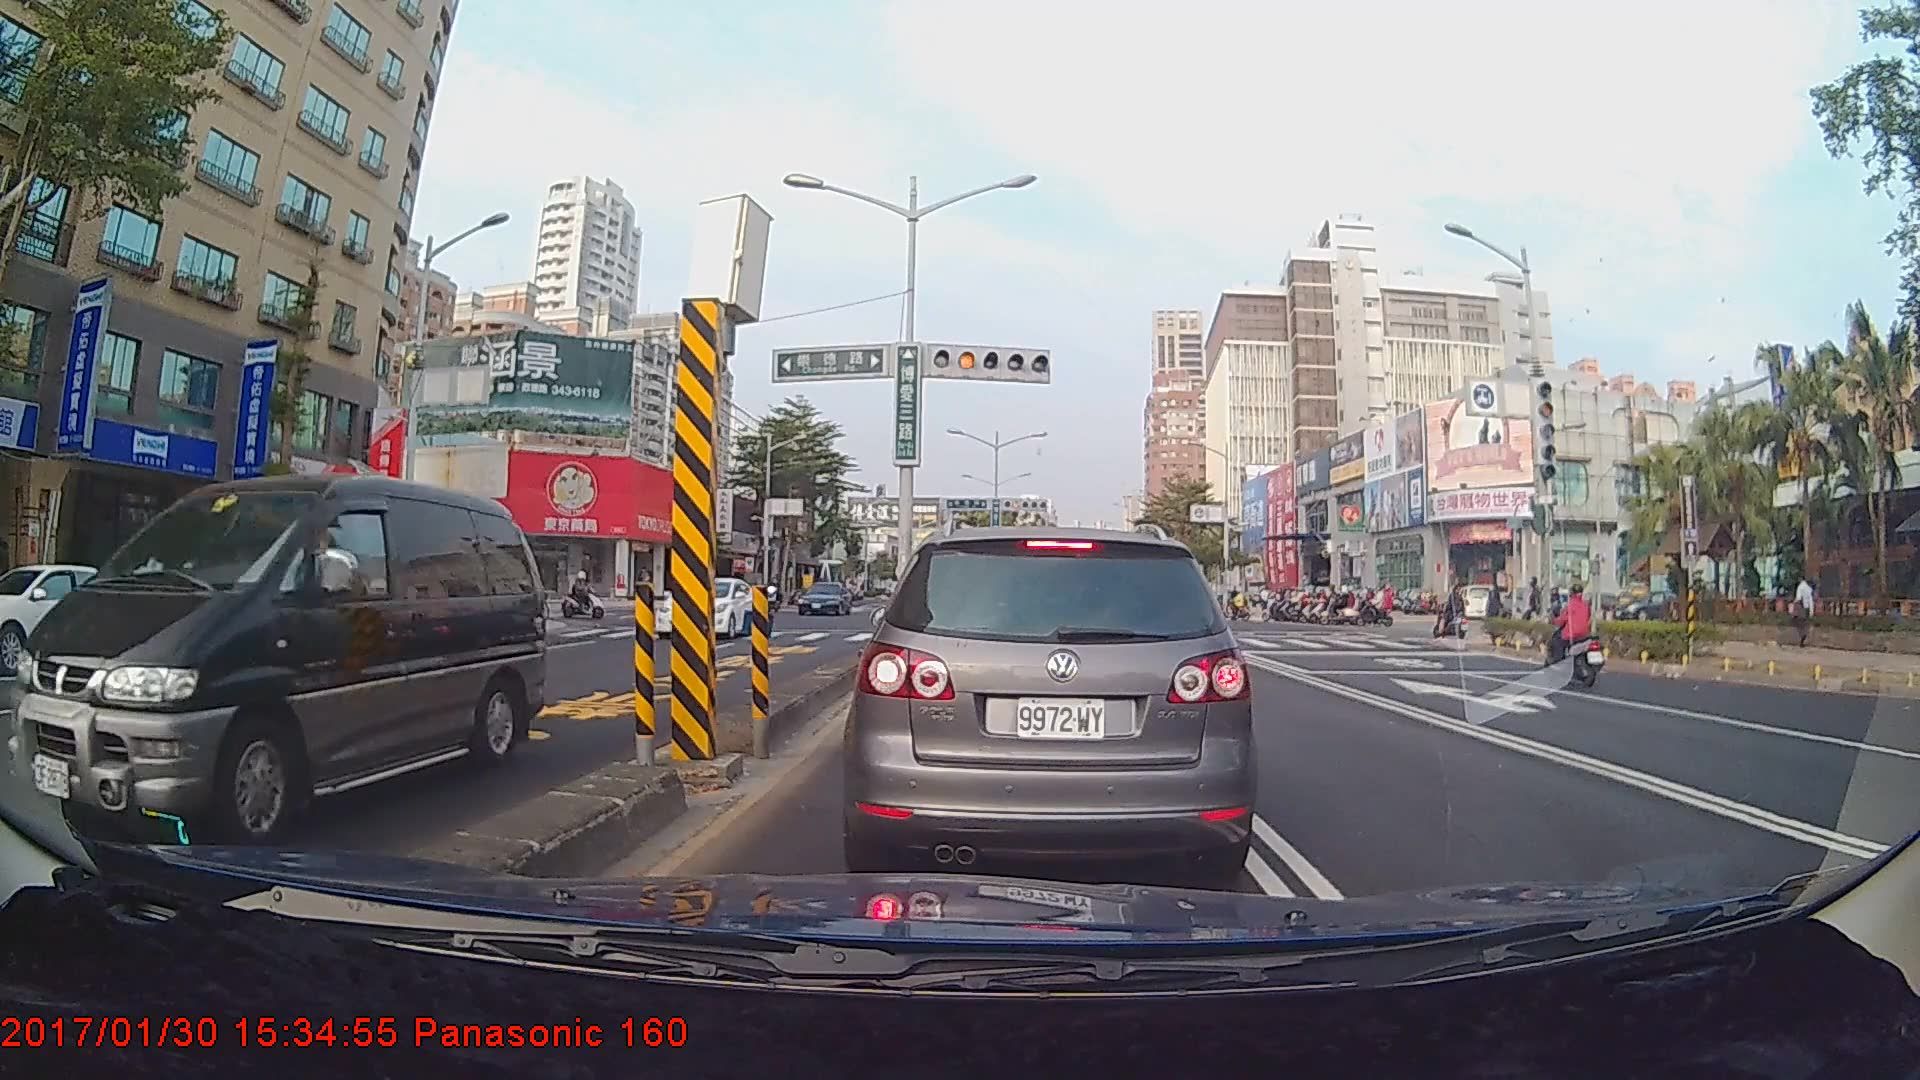pedestrian: (1788, 576, 1817, 648), (1484, 579, 1509, 637)
rider: (1544, 583, 1608, 680), (1436, 582, 1473, 646)
vehicle: (4, 473, 548, 849), (856, 525, 1244, 878), (0, 561, 163, 671), (656, 577, 760, 641), (795, 579, 849, 617)
